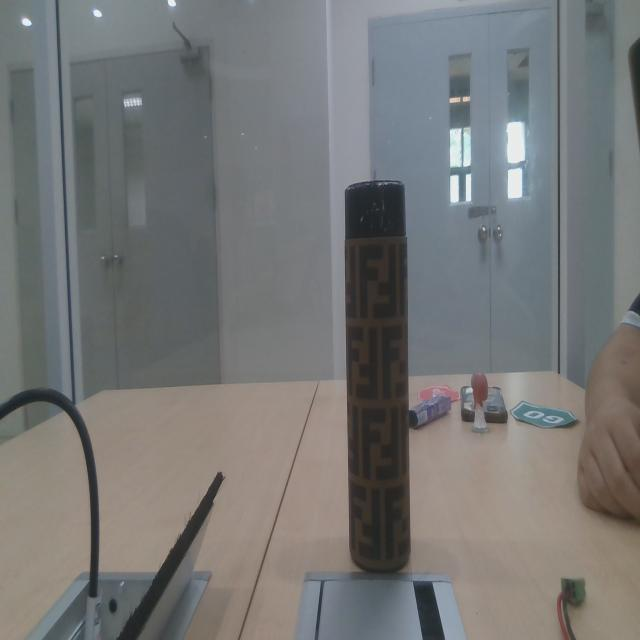Pole: (338, 160, 424, 587)
